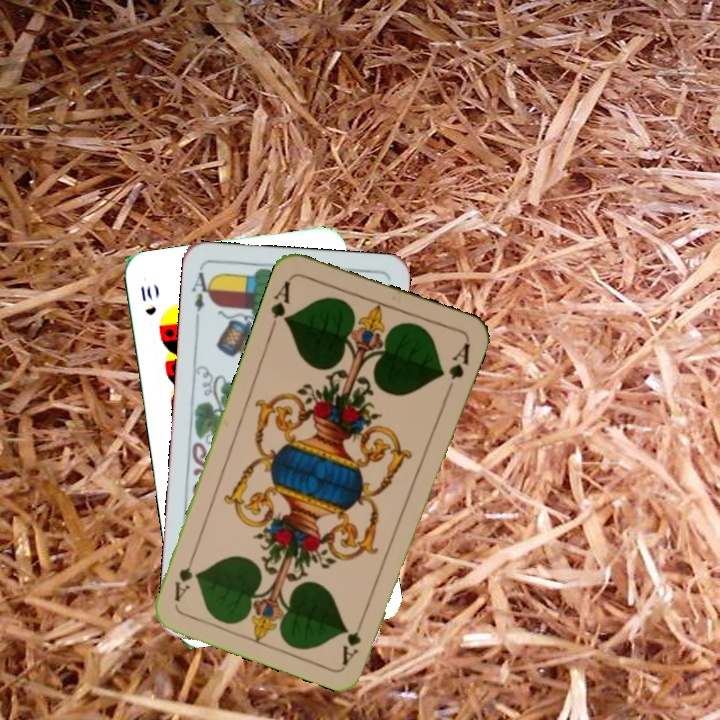EA: (188, 268, 215, 325)
GA: (338, 610, 369, 667), (266, 276, 294, 333)
S10: (136, 282, 159, 318)
